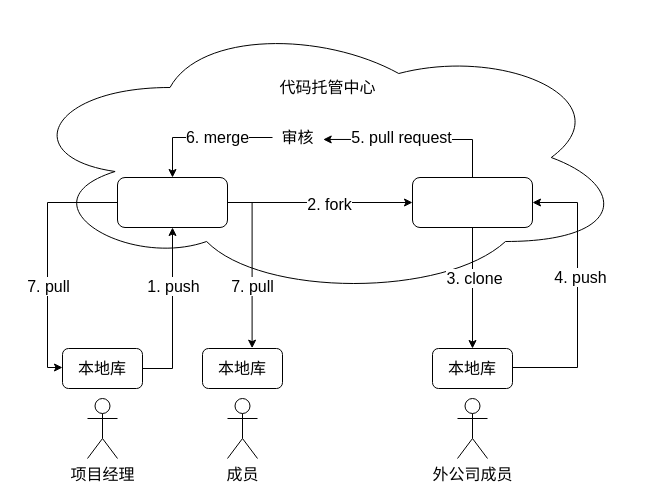
Some shapes in this 645 by 502 pixel diagram are drawn without their labels. The box of each missing label's shape, as (x1, y1, x2, y2) in pixels:
远程库 【外公司成员】: (412, 176, 532, 228)
远程库 【项目经理】: (116, 176, 228, 228)
